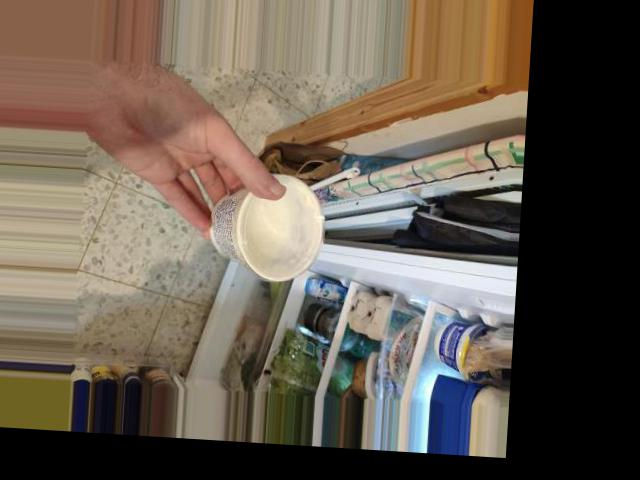cotage: (202, 185, 339, 268)
